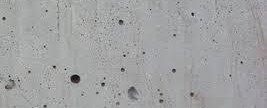Spalling: (1, 1, 245, 108)
